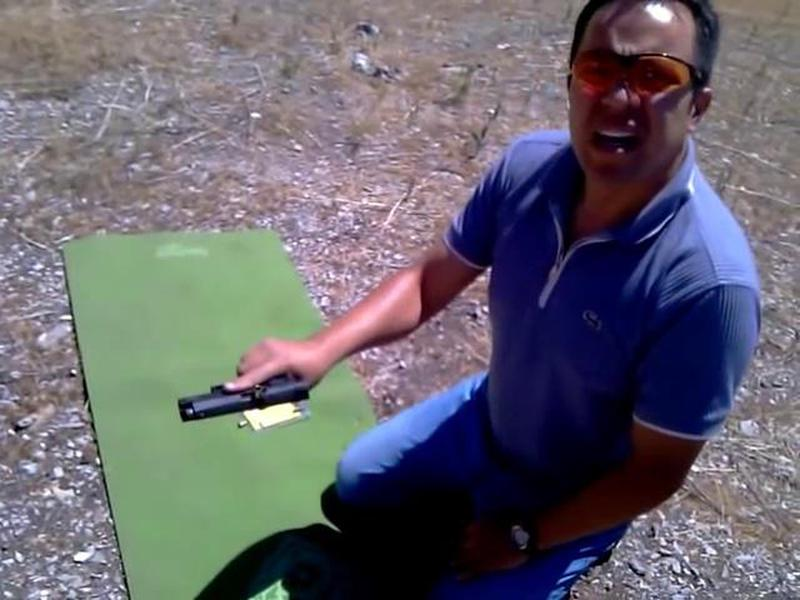Pistola: (157, 344, 341, 455)
